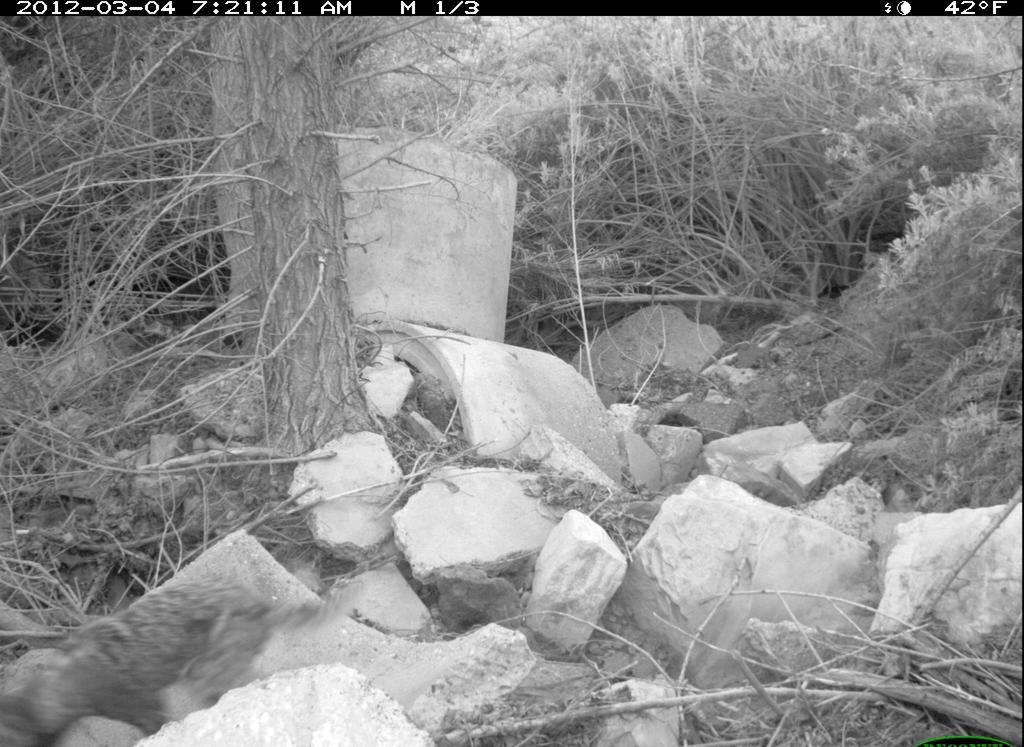coyote: (16, 579, 354, 740)
